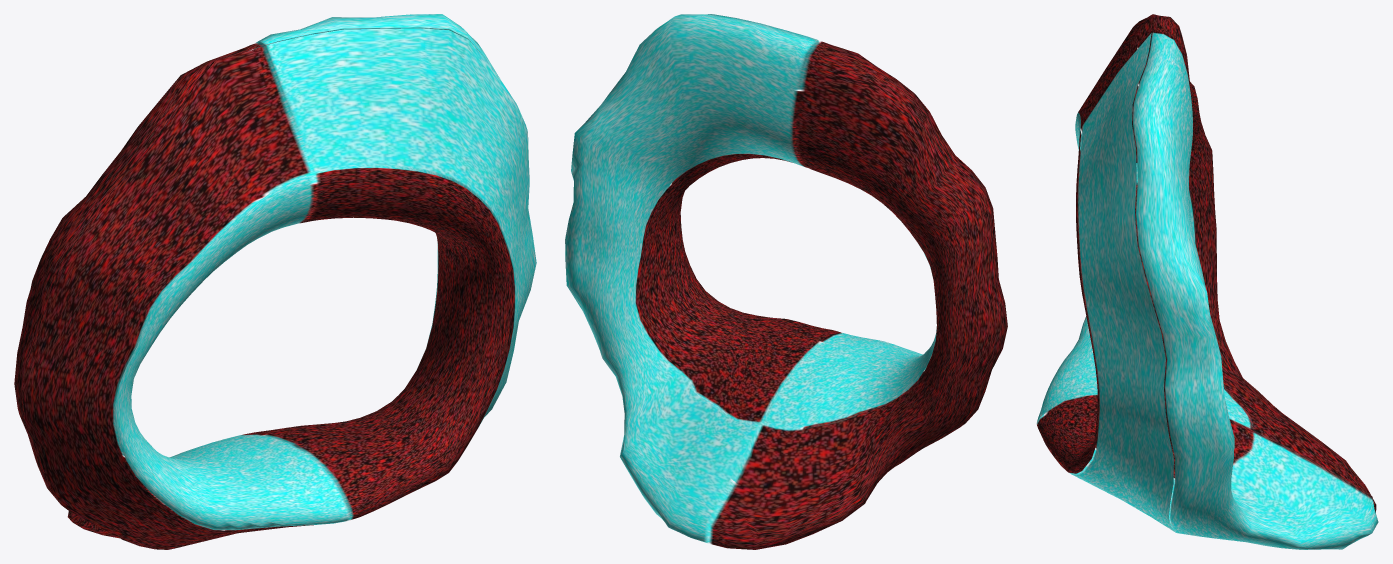
3 renders of one model, left to right at view 1: azimuth 30°, elevation 25°; view 2: azimuth 150°, elevation 25°; view 3: azimuth 270°, elevation 25°, orthographic. The views are drawn at different scales.
Parts seen in each view (by area): view 1: SM_TunnelConnection_02_LOD0; view 2: SM_TunnelConnection_02_LOD0; view 3: SM_TunnelConnection_02_LOD0.
Part boxes in pixels (x1,y1,x2,y2): SM_TunnelConnection_02_LOD0: (14,14,536,549); SM_TunnelConnection_02_LOD0: (565,14,1007,549); SM_TunnelConnection_02_LOD0: (1036,14,1378,549).
Bounding box in the file's own units: 17.6 × 17.69 × 11.24.
1 material, 1 textured.
